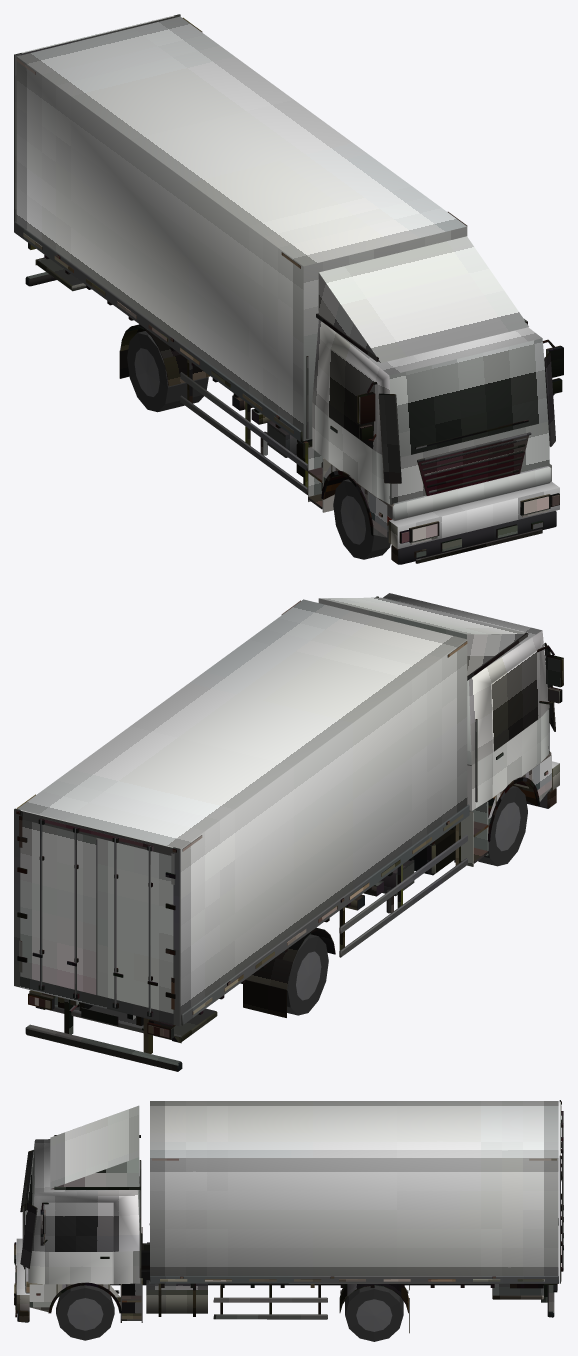
The model's file is verteiler_f.glb.
The picture shows the model from 3 angles, top to bottom: view 1: azimuth 30°, elevation 25°; view 2: azimuth 150°, elevation 25°; view 3: azimuth 270°, elevation 25°; orthographic projection. The views are drawn at different scales.
Visible parts, largest first — view 1: koerper, rad_hl; view 2: koerper, rad_hl; view 3: koerper, rad_hl.
Part boxes in pixels (x1,y1,x2,y2): koerper: (14,14,563,564); rad_hl: (127,331,390,559); koerper: (14,593,563,1071); rad_hl: (287,786,527,1015); koerper: (14,1100,563,1333); rad_hl: (56,1285,403,1341).
Bounding box in the file's own units: 3.07 × 3.75 × 10.09.
Materials: 2 (1 with a texture image).
